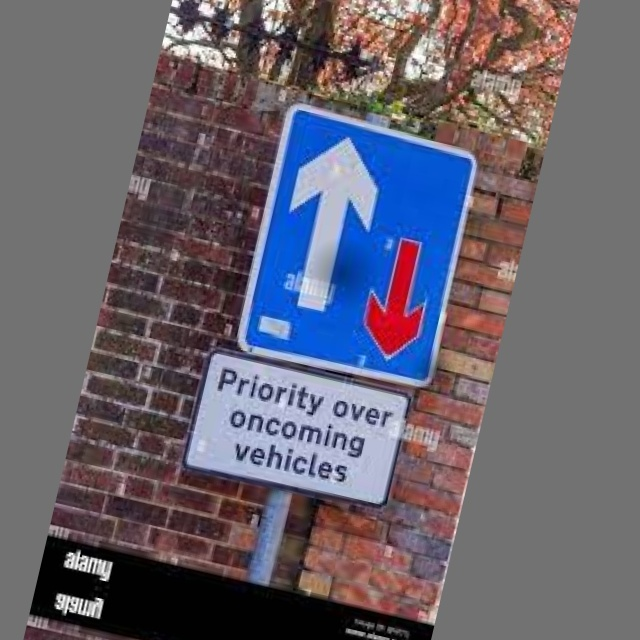Priority_for_Oncoming_Traffic: (243, 111, 481, 385)
